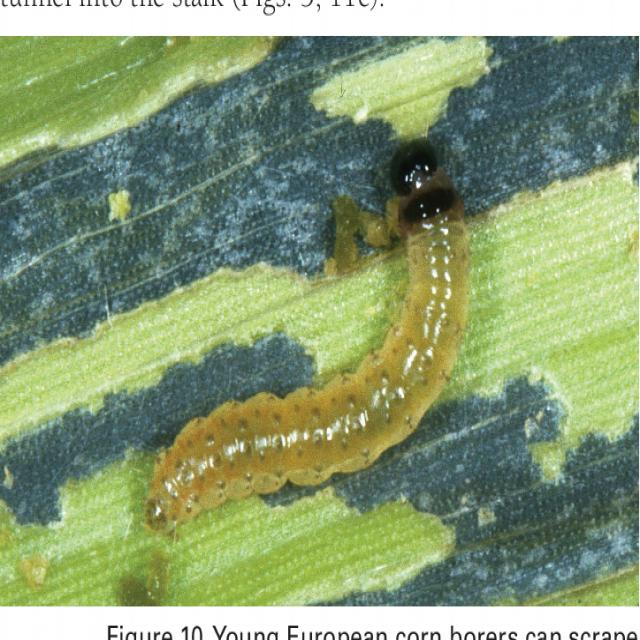cornborer-Larva-: (128, 131, 482, 545)
